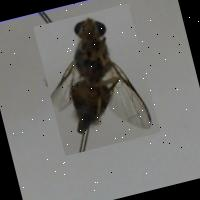Oriental-fruit-fly: (32, 4, 160, 156)
